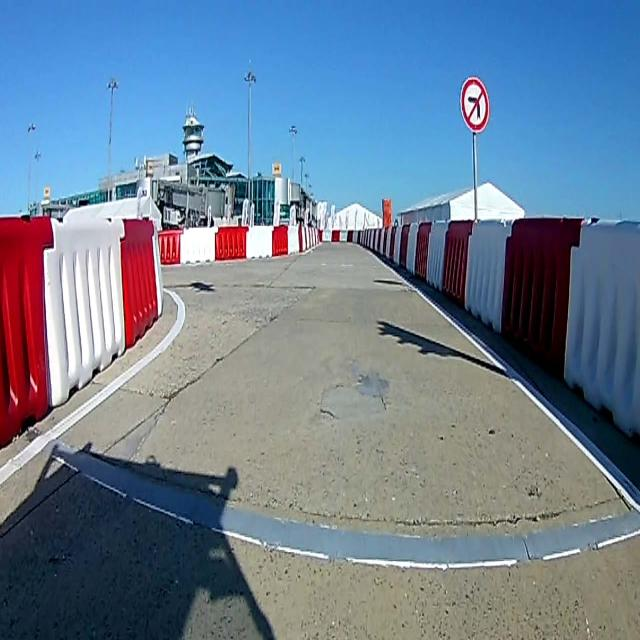soladonulmez: (460, 79, 488, 131)
